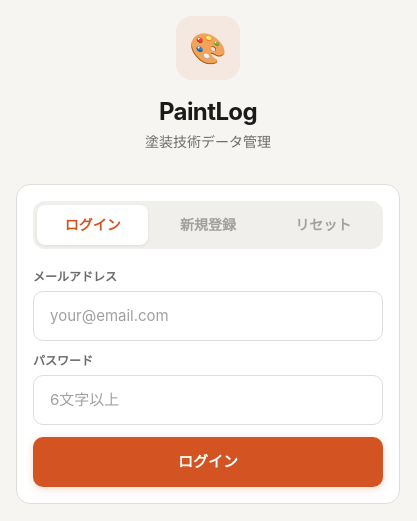
Scenario: ログイン画面 › 新規登録タブでアカウント作成ボタンが表示される
The width and height of the screenshot is (417, 521).
Click the button "新規登録" at (208, 225), box x1=152 y1=205 x2=264 y2=245
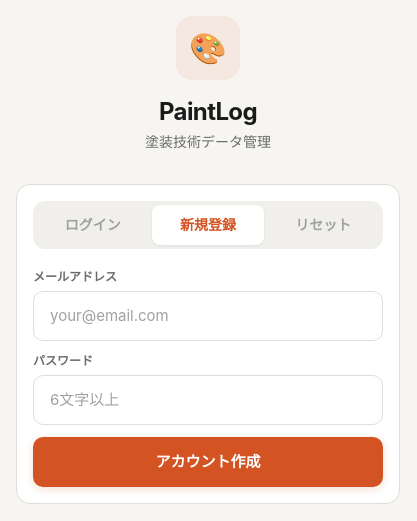
Expected: the submit button reads "アカウント作成", x1=33 y1=437 x2=383 y2=487
